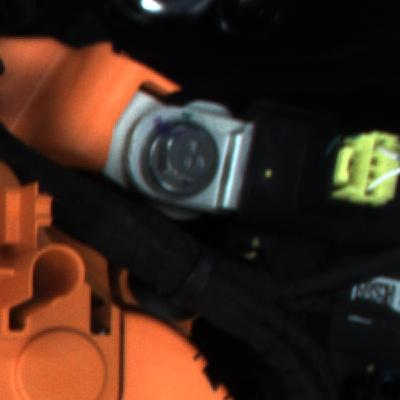nut_b: (143, 108, 230, 197)
